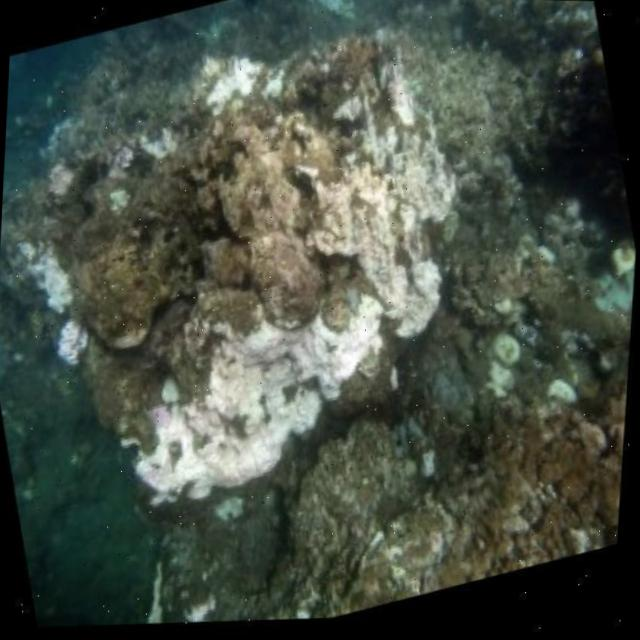Bleached Coral: (104, 299, 441, 528), (287, 21, 510, 366), (195, 59, 258, 108)
Dead Coral: (82, 112, 287, 336)
